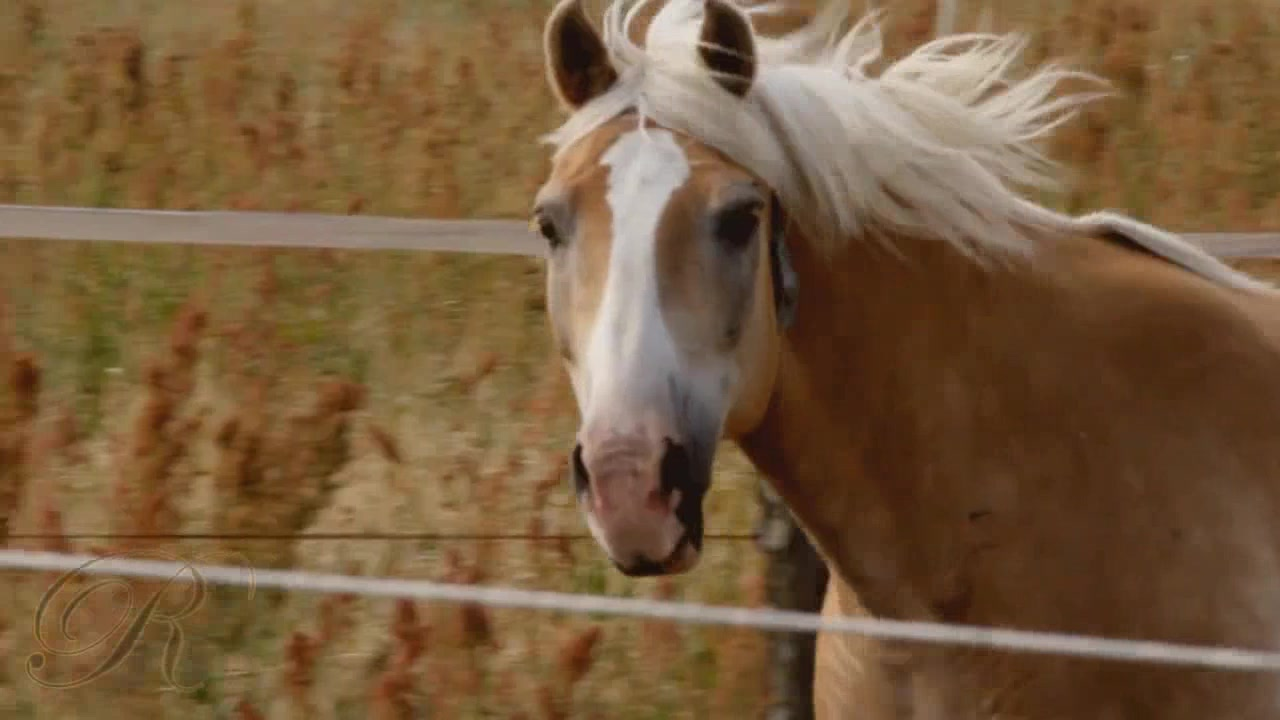horse: (531, 3, 1280, 720)
